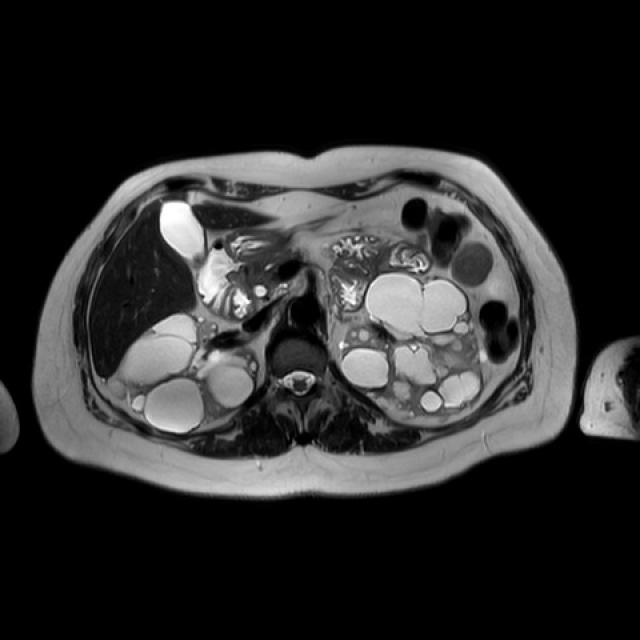sag: (106, 312, 261, 435)
sol: (338, 271, 489, 421)
